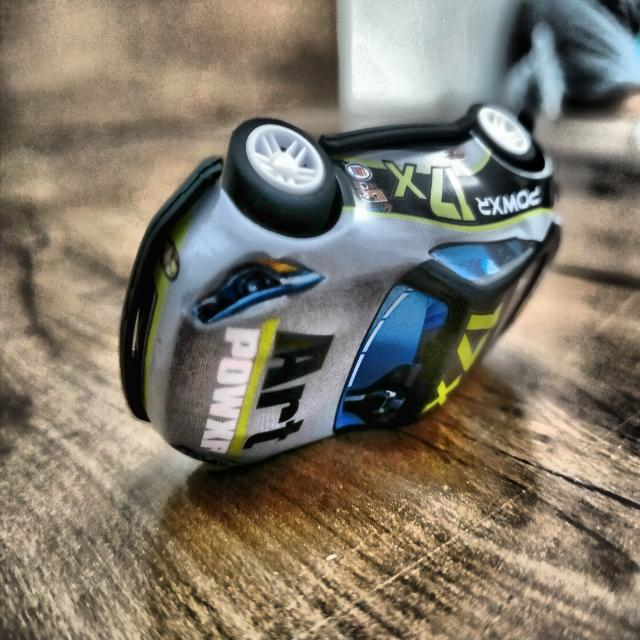Car: (118, 109, 574, 473)
